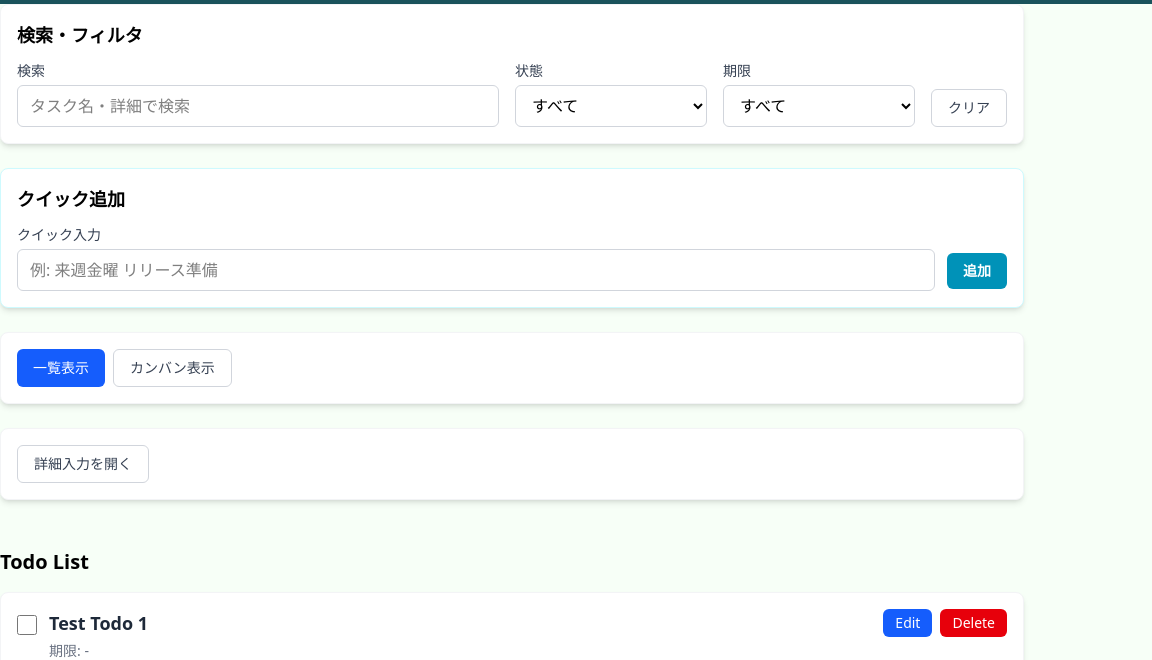
DashboardPage › TODO更新 › キャンセルボタンで編集モード終了
Expected: the heading "Test Todo 1" is shown, [49,609,148,637]
Note: 編集ボタンをクリック
Click the button "Edit": (908, 623) [883,609,932,637]
(page scrolled)
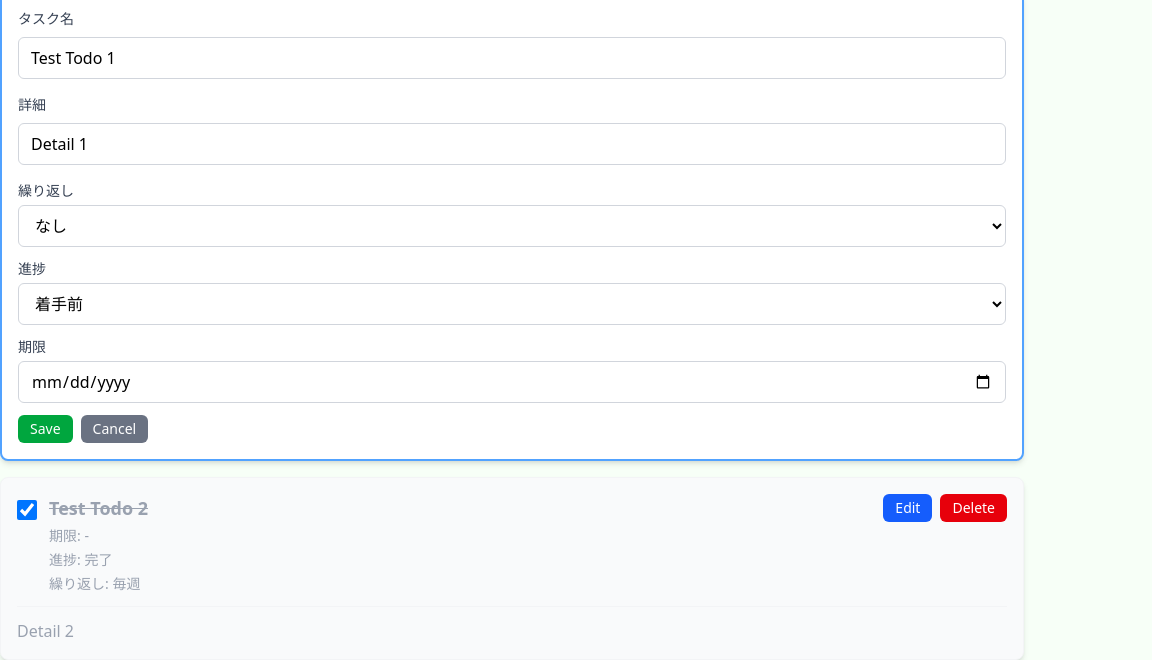
Expected: the field labelled "タスク名" is shown, [18,37,1006,79]
Note: キャンセルボタンをクリック
Click the button "Cancel": (114, 429) [81,415,148,443]
(page scrolled)
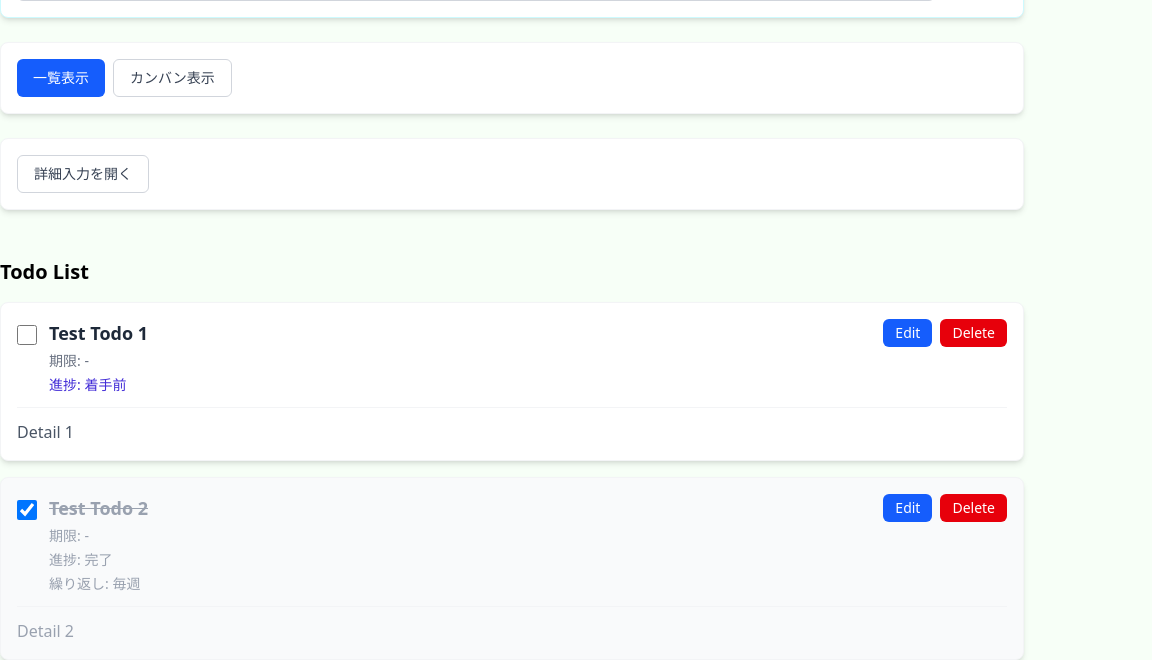
Expected: the label labelled "タスク名" is gone
Expected: the heading "Test Todo 1" is shown, [49,319,148,347]
